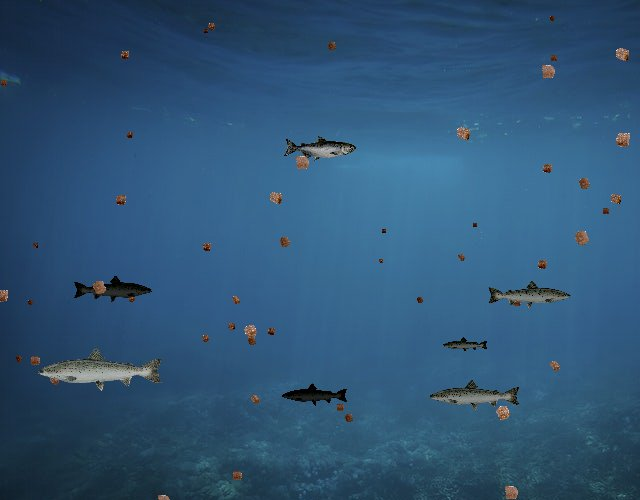Fish: (36, 346, 165, 392), (429, 379, 523, 413), (486, 279, 572, 310), (72, 275, 153, 304), (284, 135, 357, 162), (282, 383, 350, 407), (442, 337, 489, 354)
Pellet: (608, 125, 638, 155), (236, 318, 264, 346), (262, 185, 289, 212), (546, 12, 559, 25), (29, 239, 41, 251)
